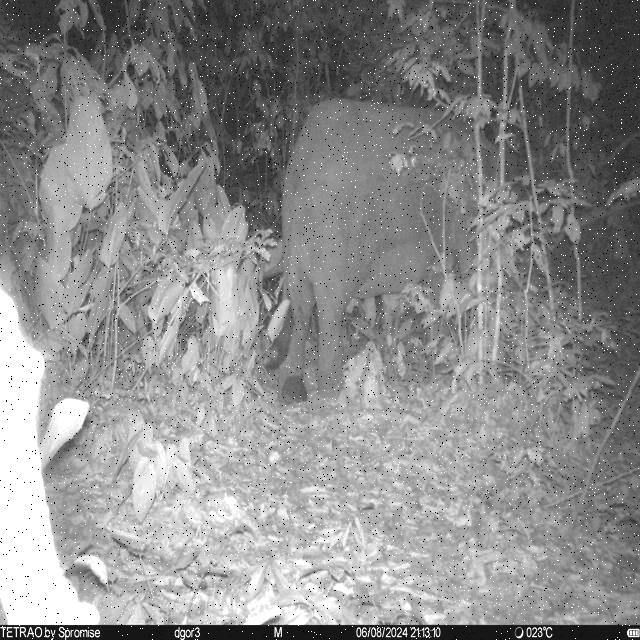elephant: (264, 96, 556, 409)
